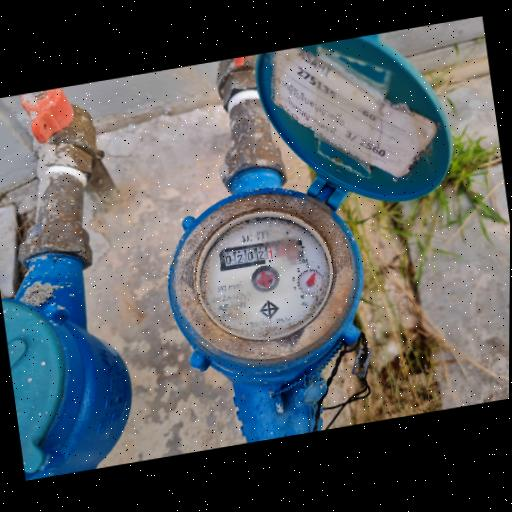0: (223, 252, 233, 266), (246, 248, 255, 262)
1: (266, 244, 275, 259)
2: (234, 250, 244, 264), (257, 246, 266, 260)
border_water_meter_number: (218, 236, 304, 272)
